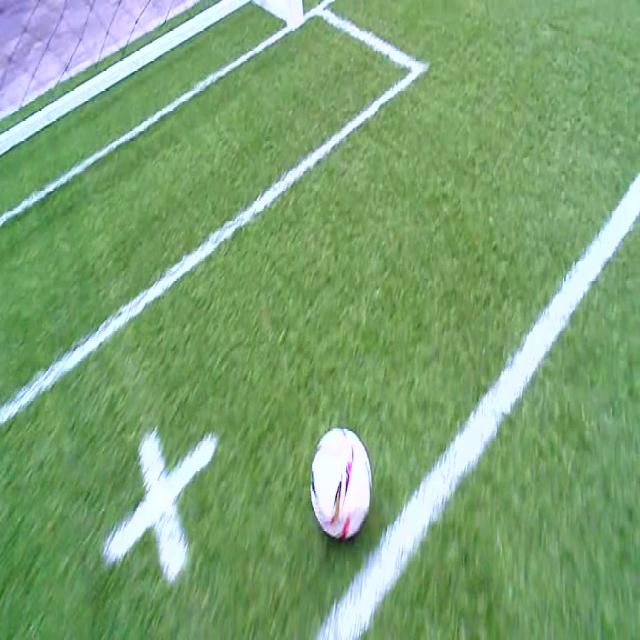ball: (311, 428, 372, 538)
